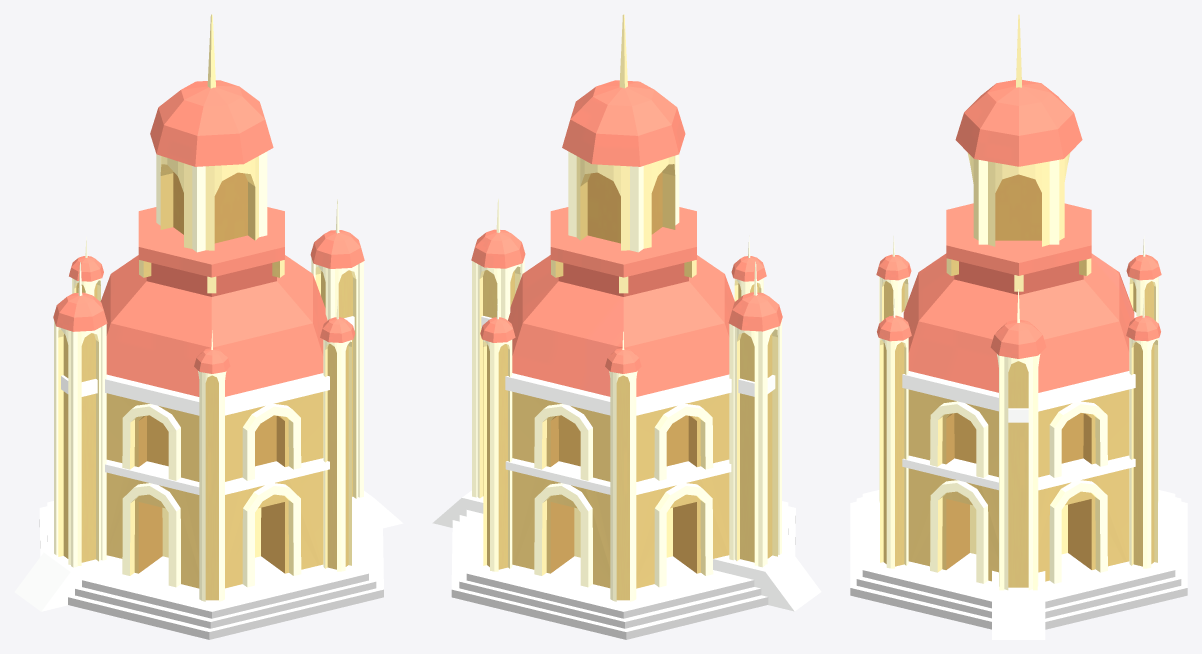
File: temple.008.glb
3 renders of one model, left to right at view 1: azimuth 30°, elevation 25°; view 2: azimuth 150°, elevation 25°; view 3: azimuth 270°, elevation 25°, orthographic.
Parts seen in each view (by area): view 1: temple.008(Clone); view 2: temple.008(Clone); view 3: temple.008(Clone).
Part boxes in pixels (x1,y1,x2,y2): temple.008(Clone): (14, 14, 403, 639); temple.008(Clone): (432, 14, 821, 639); temple.008(Clone): (850, 14, 1187, 639).
Size of the model in its own units: 14.55 by 20.83 by 11.8.
Materials: 1 (1 with a texture image).
